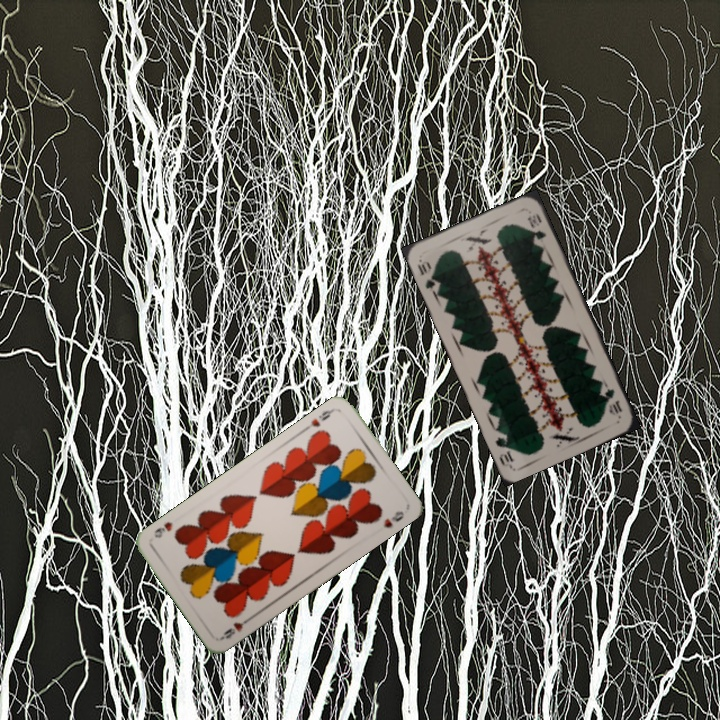G10: (413, 256, 443, 292), (601, 384, 624, 418)
H9: (217, 613, 254, 642), (301, 404, 337, 432)
